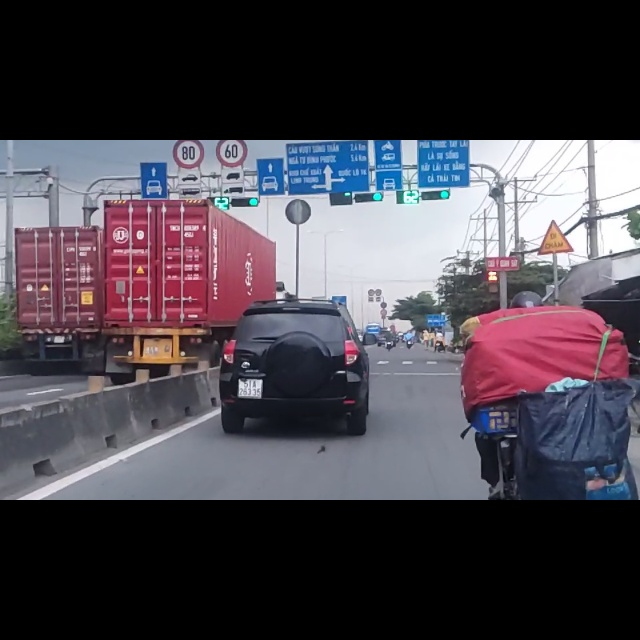bien_cam: (537, 141, 575, 204), (173, 1, 205, 51), (216, 1, 247, 47)
